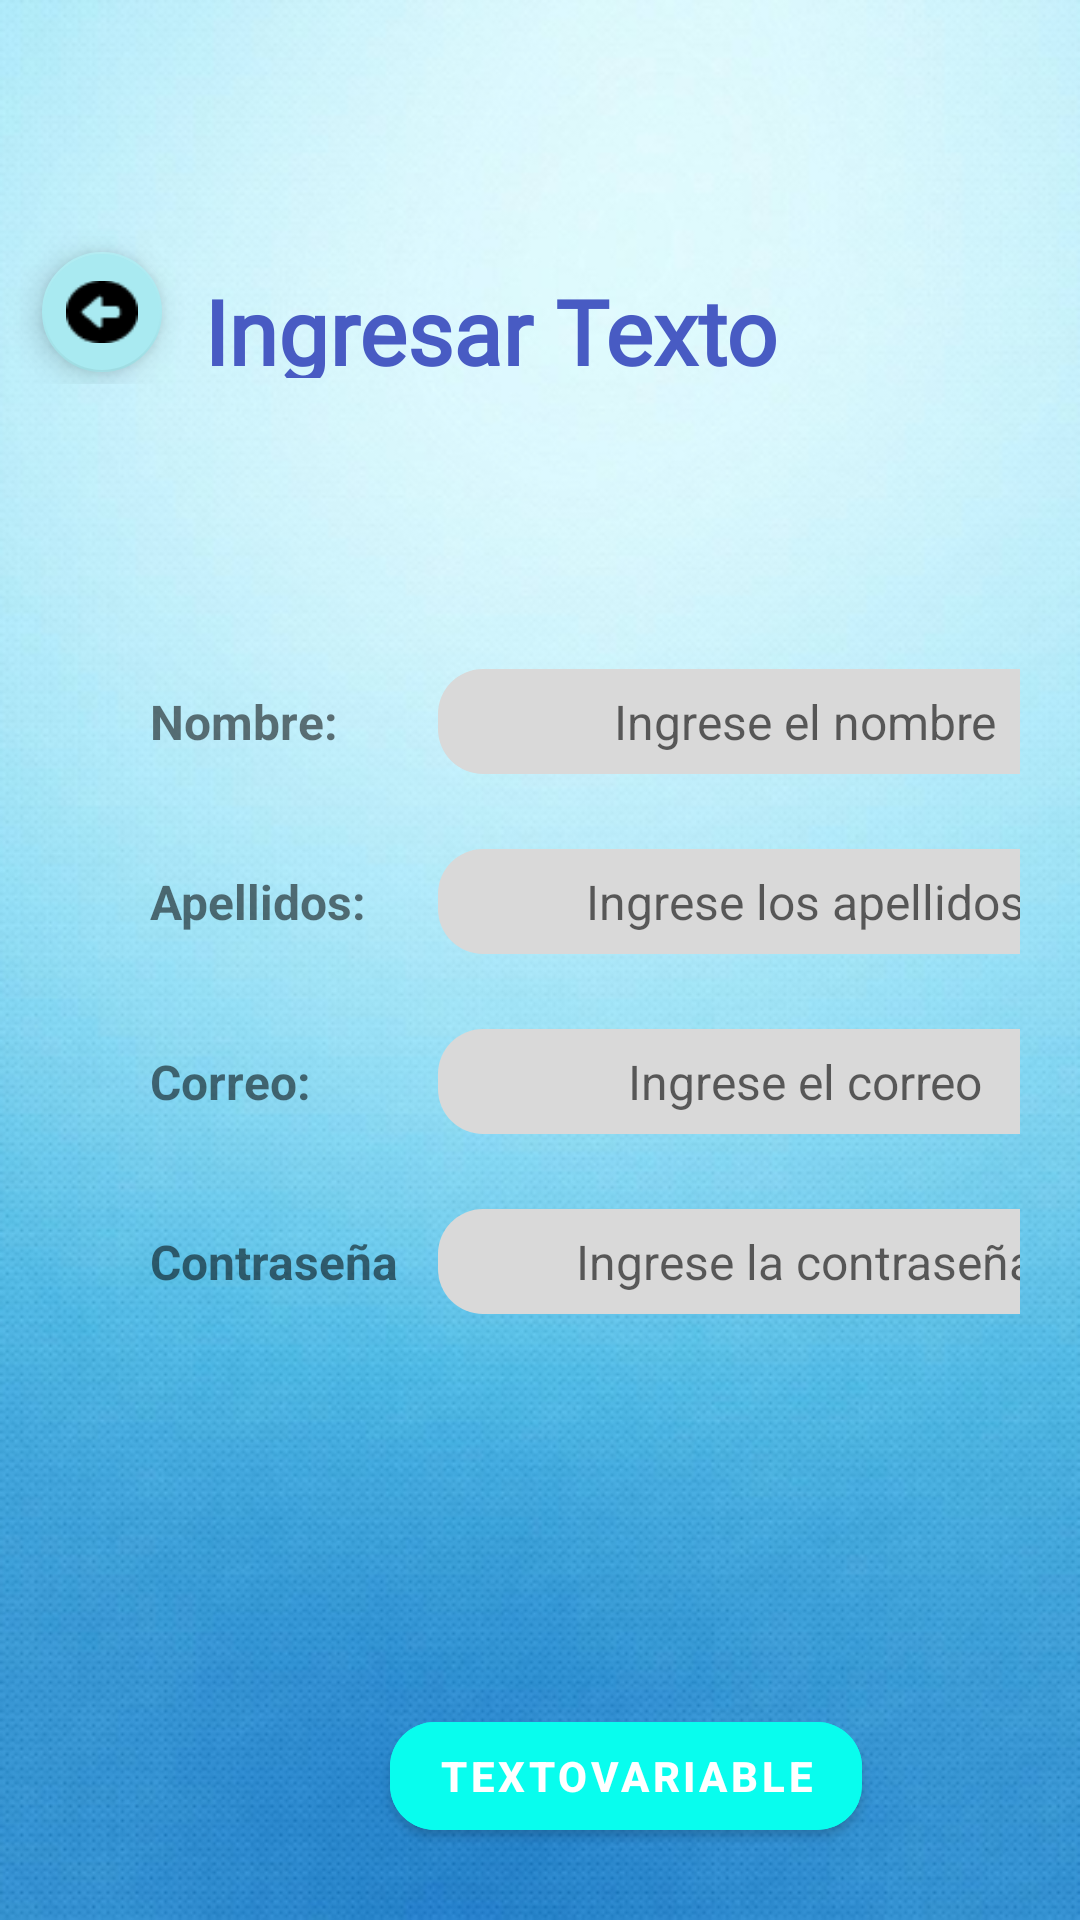

Point at icon controls on the screen. Image size 1080×1920, points as [x,y].
back usuario: [96,313]
